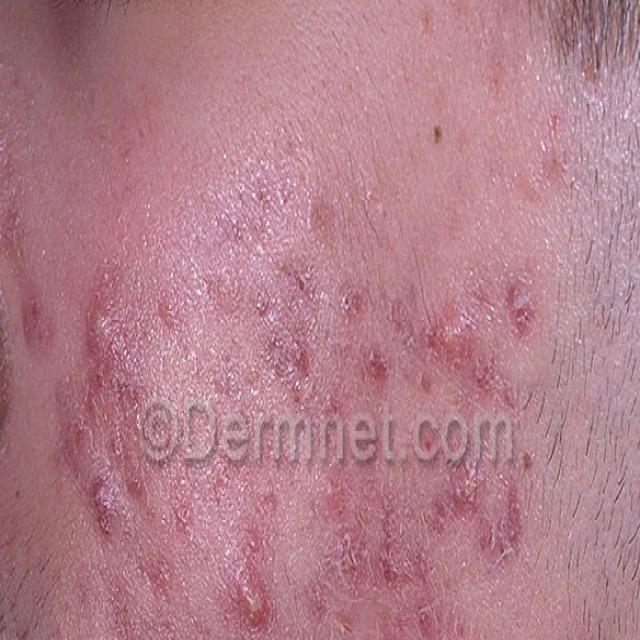Acne: (69, 249, 549, 640)
